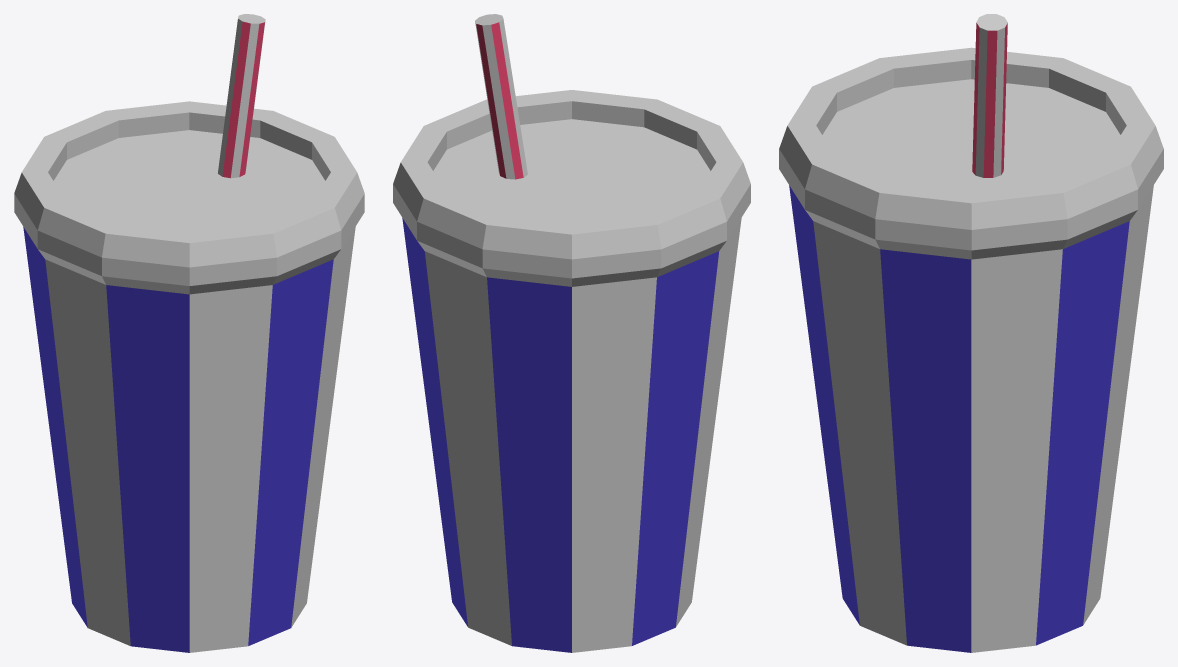
File: drink.dae
3 views of the same model, side by side, from view 1: azimuth 30°, elevation 25°; view 2: azimuth 150°, elevation 25°; view 3: azimuth 270°, elevation 25° (orthographic). The views are drawn at different scales.
Visible parts, largest first — view 1: Cylinder; view 2: Cylinder; view 3: Cylinder.
Boxes of the visible parts, bbox=[...] form: Cylinder: bbox=[14, 14, 364, 652]; Cylinder: bbox=[393, 14, 750, 652]; Cylinder: bbox=[779, 14, 1163, 652].
Bounding box in the file's own units: 1.63 × 1.63 × 2.89.
